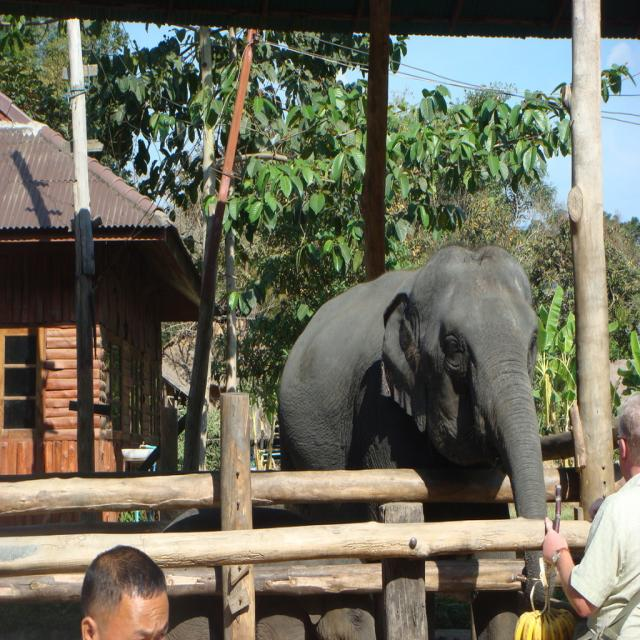elephant: (270, 241, 563, 547)
